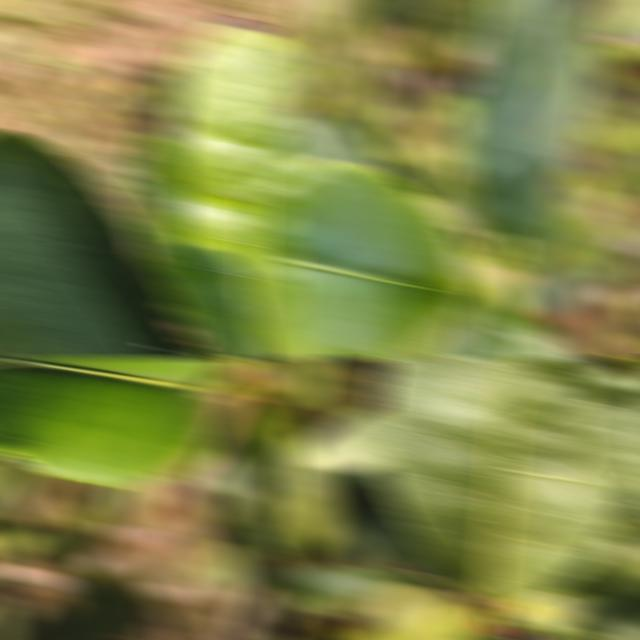Leaf: (372, 357, 640, 602), (133, 16, 296, 359), (0, 128, 206, 359), (280, 159, 478, 359), (459, 0, 597, 242), (0, 357, 230, 486), (223, 402, 296, 568), (322, 583, 489, 640), (280, 430, 342, 561), (401, 0, 491, 72), (280, 563, 404, 615), (280, 111, 389, 169), (297, 405, 389, 473), (502, 591, 599, 640), (280, 357, 354, 421), (516, 265, 593, 313), (365, 0, 433, 28)
